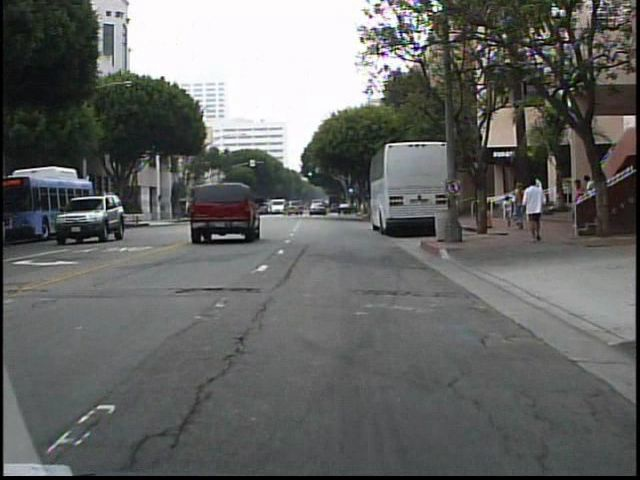person: (521, 176, 549, 244), (581, 171, 599, 231), (567, 176, 585, 235), (511, 181, 525, 234), (500, 195, 514, 229)
